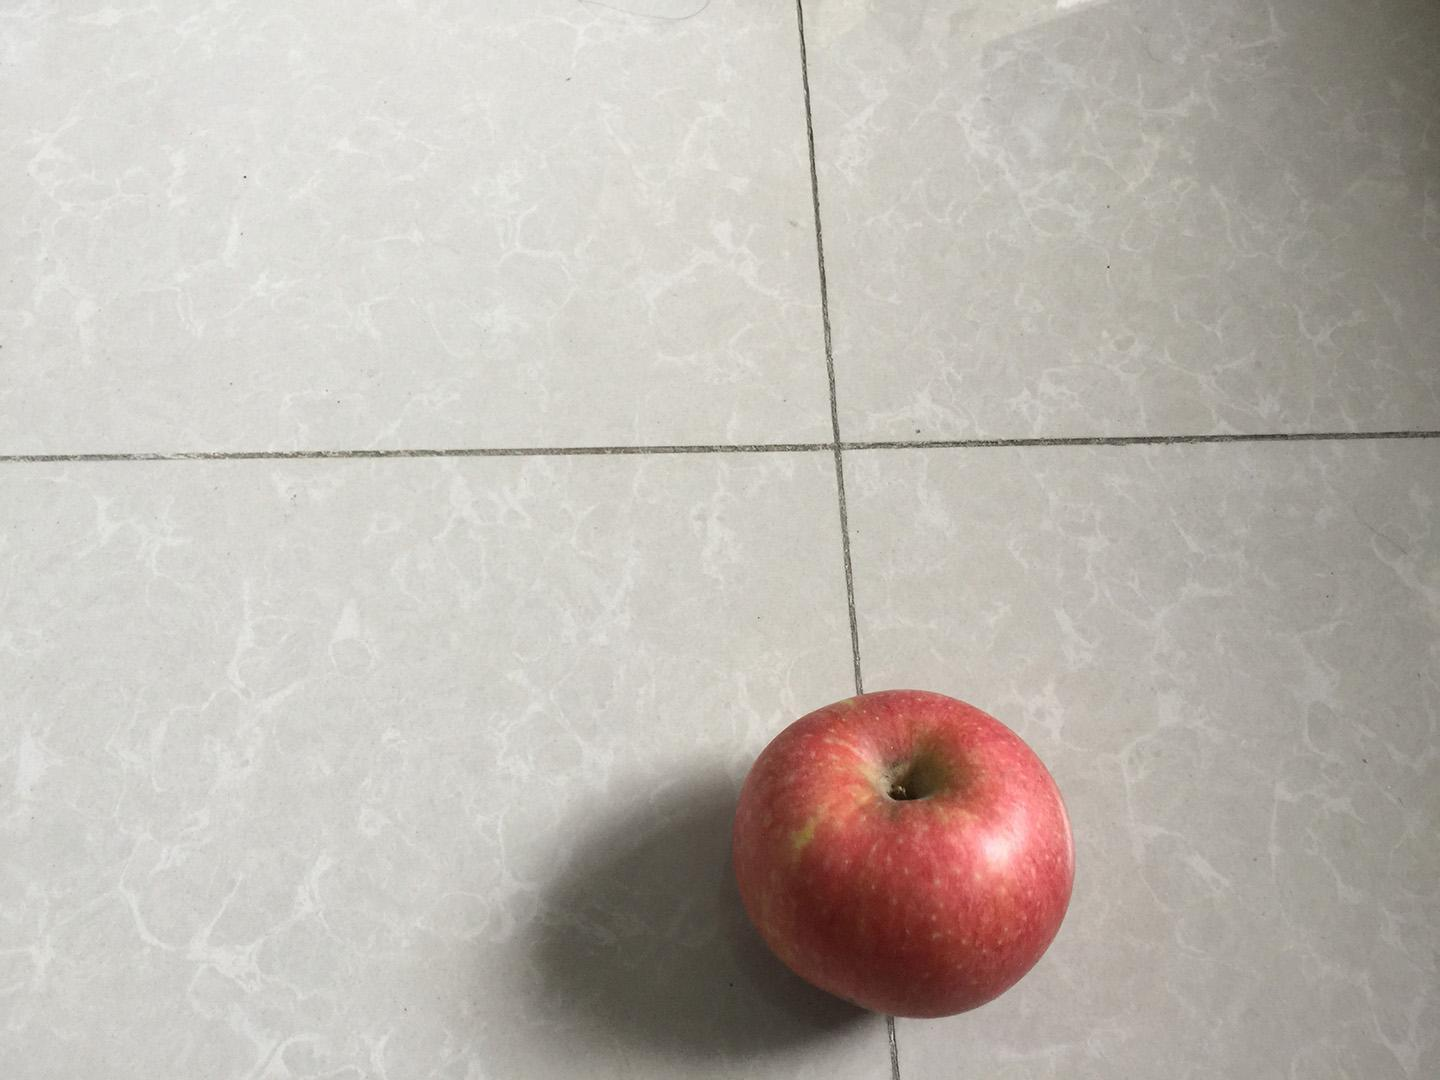apple: (722, 677, 1087, 1021)
